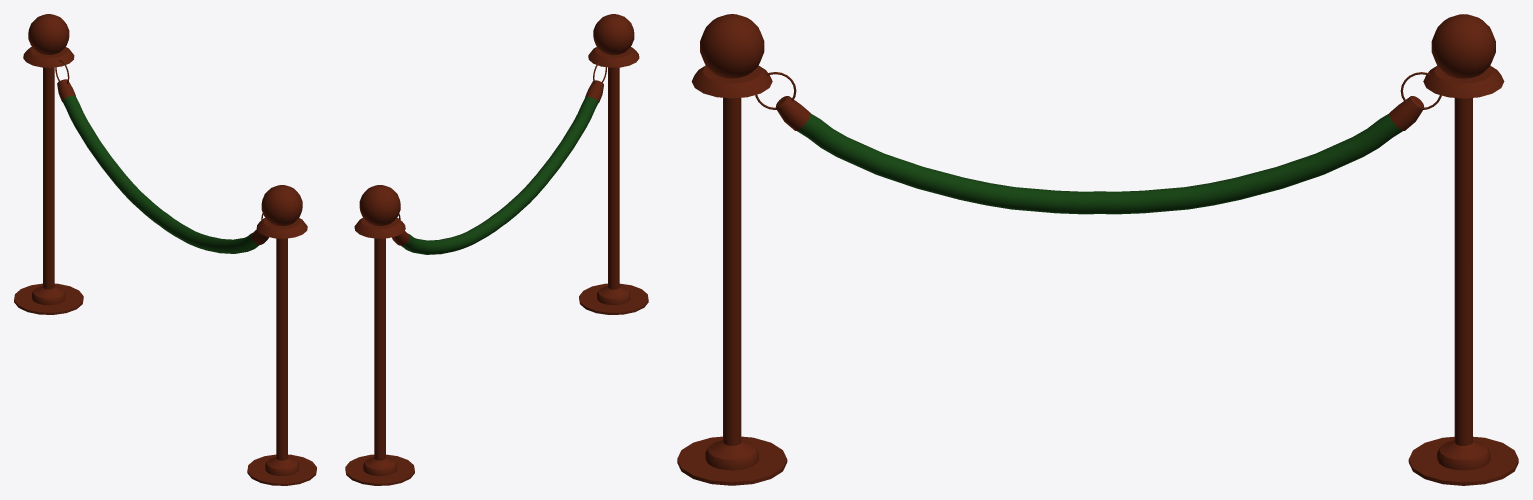
File: stanchion1.glb
3 renders of one model, left to right at view 1: azimuth 30°, elevation 25°; view 2: azimuth 150°, elevation 25°; view 3: azimuth 270°, elevation 25°, orthographic. The views are drawn at different scales.
Visible parts, largest first — view 1: Cylinder.070; view 2: Cylinder.070; view 3: Cylinder.070.
Part boxes in pixels (x1,y1,x2,y2): Cylinder.070: (14,14,316,485); Cylinder.070: (345,14,648,485); Cylinder.070: (677,14,1518,485).
Bounding box in the file's own units: 0.2987 × 1.33 × 2.28.
